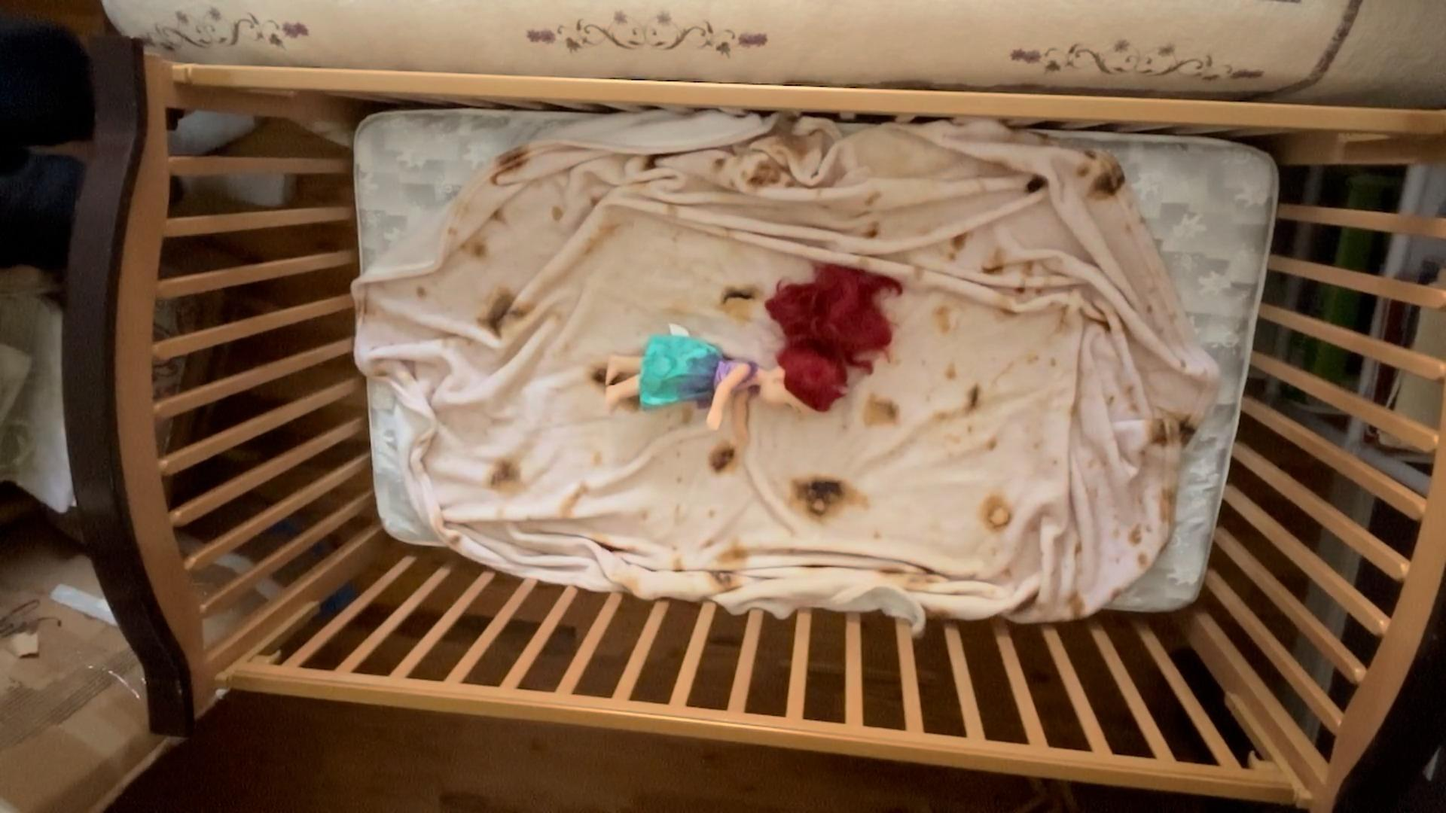baby: (601, 265, 899, 449)
